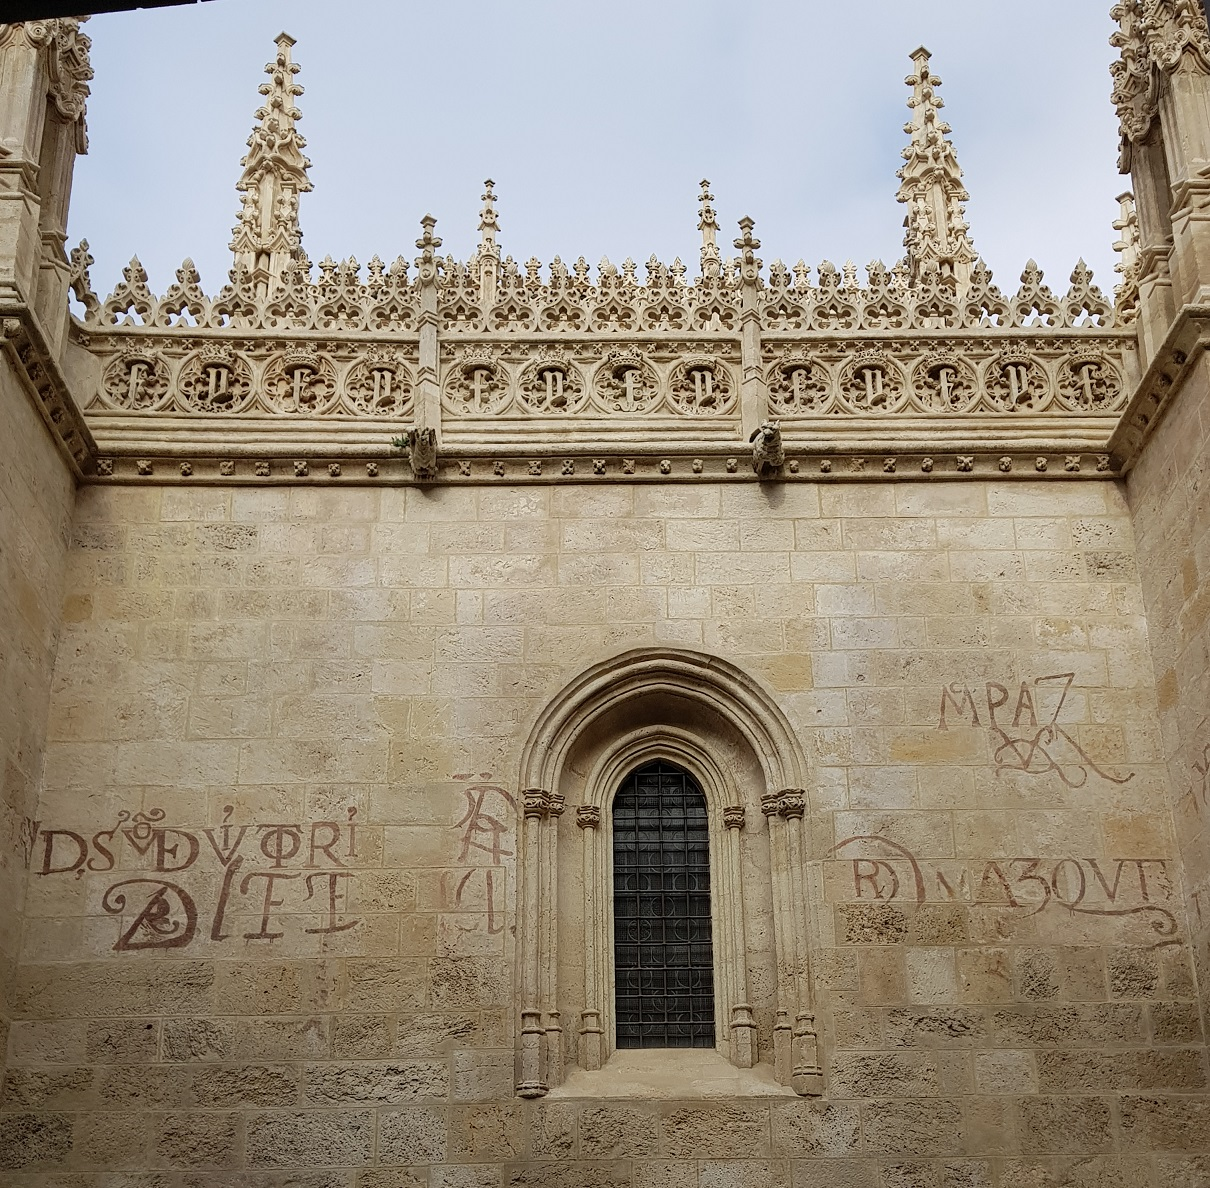arco-apuntado: (513, 643, 817, 873)
pinaculo-gotico: (230, 15, 314, 255), (896, 40, 978, 256)
